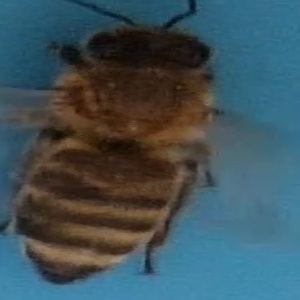bee: (15, 6, 230, 289)
